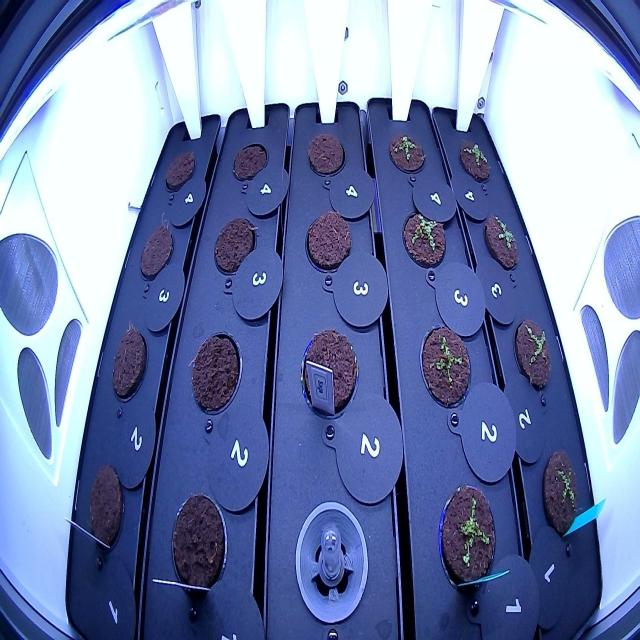germination: (435, 478, 501, 605), (418, 316, 475, 413), (538, 442, 582, 543), (512, 305, 555, 394), (398, 203, 448, 273), (480, 206, 523, 274), (384, 126, 430, 178), (456, 136, 494, 186)
pod: (164, 486, 231, 611), (296, 324, 362, 421), (187, 324, 245, 428), (85, 457, 125, 557), (303, 203, 355, 279), (105, 320, 152, 404), (210, 209, 260, 279), (133, 214, 181, 285), (302, 127, 348, 182), (228, 140, 270, 188), (162, 144, 200, 197)
